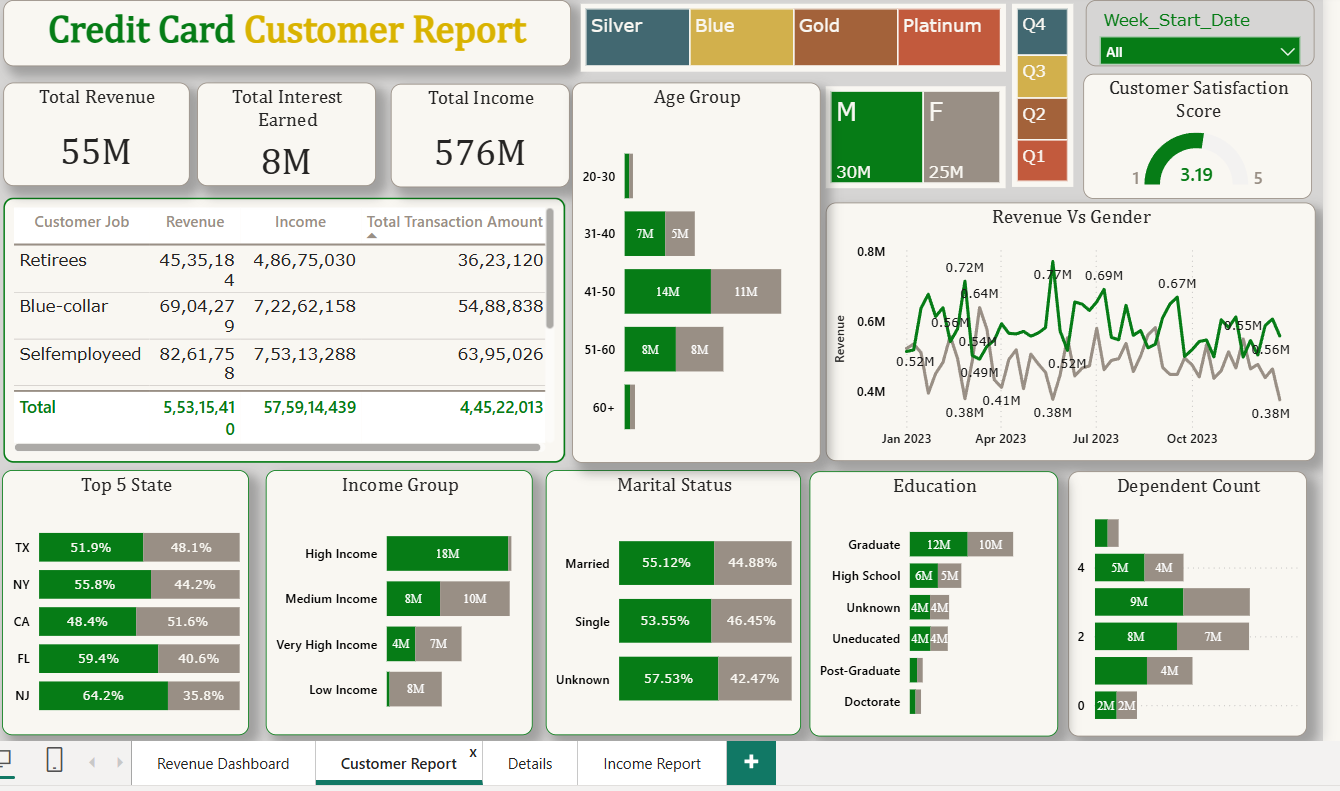

The dashboard page shown, as its layout file describes it:
{"tool":"powerbi","page":{"name":"Customer Report","canvas":[1280,720],"ordinal":1},"visuals":[{"type":"hundredPercentStackedBarChart","title":"Top 5 State","fields":{"Category":["customer.state_cd"],"Y":["Sum(credit_card.Revenue)"],"Series":["customer.Gender"]},"box":[4.8,458.1,238.6,256.1],"z":0},{"type":"textbox","box":[6.4,4.8,547.2,97],"z":1000},{"type":"barChart","title":"Income Group","fields":{"Category":["customer.Income Group"],"Y":["Sum(credit_card.Revenue)"],"Series":["customer.Gender"]},"box":[259.3,458.1,257.7,256.1],"z":2000},{"type":"hundredPercentStackedBarChart","title":"Marital Status","fields":{"Category":["customer.Marital_Status"],"Y":["Sum(credit_card.Revenue)"],"Series":["customer.Gender"]},"box":[529.7,458.1,246.5,256.1],"z":3000},{"type":"tableEx","fields":{"Values":["customer.Customer_Job","Sum(credit_card.Revenue)","Sum(customer.Income)","Sum(credit_card.Total_Trans_Amt)"]},"box":[6.4,195.6,542.4,256.1],"z":4000},{"type":"lineChart","title":"Revenue Vs  Gender","fields":{"Category":["credit_card.Week_Start_Date.Variation.Date Hierarchy.Year","credit_card.Week_Start_Date.Variation.Date Hierarchy.Month","credit_card.Week_Start_Date.Variation.Date Hierarchy.Day"],"Y":["Sum(credit_card.Revenue)"],"Series":["customer.Gender"]},"box":[800.1,200.4,472.4,249.7],"z":5000},{"type":"treemap","fields":{"Group":["credit_card.Card_Category"],"Values":["Avg(credit_card.Client_Num)"]},"box":[563.1,8,410.4,65.2],"z":6000},{"type":"slicer","fields":{"Values":["credit_card.Week_Start_Date"]},"box":[1051.4,4.8,221.1,63.6],"z":7000},{"type":"card","title":"Total Revenue","fields":{"Values":["Sum(credit_card.Revenue)"]},"box":[6,84.5,179.7,100.2],"z":8000},{"type":"card","title":"Total Interest Earned","fields":{"Values":["Sum(credit_card.Interest_Earned)"]},"box":[192.5,84.3,173,100.2],"z":9000},{"type":"card","title":"Total Income","fields":{"Values":["Sum(customer.Income)"]},"box":[380,85.7,173,100.2],"z":10000},{"type":"treemap","fields":{"Group":["credit_card.Qtr"],"Values":["Avg(credit_card.Client_Num)"]},"box":[979.8,8,58.9,176.6],"z":11000},{"type":"treemap","fields":{"Group":["customer.Gender"],"Values":["Sum(credit_card.Revenue)"]},"box":[800.1,87.5,173.4,98.6],"z":12000},{"type":"barChart","title":"Age Group","fields":{"Y":["Sum(credit_card.Revenue)"],"Series":["customer.Gender"],"Category":["customer.Age Group"]},"box":[555.1,84.3,240.2,367.4],"z":13000},{"type":"barChart","title":"Dependent Count","fields":{"Y":["Sum(credit_card.Revenue)"],"Series":["customer.Gender"],"Category":["customer.Dependent_Count"]},"box":[1033.9,459.7,230.6,256.1],"z":14000},{"type":"barChart","title":"Education","fields":{"Y":["Sum(credit_card.Revenue)"],"Series":["customer.Gender"],"Category":["customer.Education_Level"]},"box":[784.2,459.7,240.2,256.1],"z":15000},{"type":"gauge","title":"Customer Satisfaction Score","fields":{"Y":["Avg(customer.Cust_Satisfaction_Score)"],"MinValue":["Min(customer.Cust_Satisfaction_Score)"],"MaxValue":["Max(customer.Cust_Satisfaction_Score)"]},"box":[1048.2,76.3,221.1,120.9],"z":16000}]}

Visuals, with their boxes in screenshot pixels (x1, y1, x2, y2):
"Top 5 State" hundredPercentStackedBarChart: detection(1, 469, 248, 734)
textbox: detection(3, 1, 568, 102)
"Income Group" barChart: detection(264, 469, 530, 734)
"Marital Status" hundredPercentStackedBarChart: detection(543, 469, 798, 734)
tableEx - customer.Customer_Job x Sum(credit_card.Revenue): detection(3, 198, 563, 463)
"Revenue Vs  Gender" lineChart: detection(823, 203, 1310, 461)
treemap - credit_card.Card_Category x Avg(credit_card.Client_Num): detection(578, 5, 1002, 72)
slicer - credit_card.Week_Start_Date: detection(1082, 1, 1310, 67)
"Total Revenue" card: detection(3, 84, 188, 187)
"Total Interest Earned" card: detection(195, 84, 374, 187)
"Total Income" card: detection(389, 85, 567, 188)
treemap - credit_card.Qtr x Avg(credit_card.Client_Num): detection(1008, 5, 1069, 187)
treemap - customer.Gender x Sum(credit_card.Revenue): detection(823, 87, 1002, 189)
"Age Group" barChart: detection(570, 84, 818, 463)
"Dependent Count" barChart: detection(1064, 471, 1302, 736)
"Education" barChart: detection(806, 471, 1054, 736)
"Customer Satisfaction Score" gauge: detection(1079, 75, 1307, 200)
